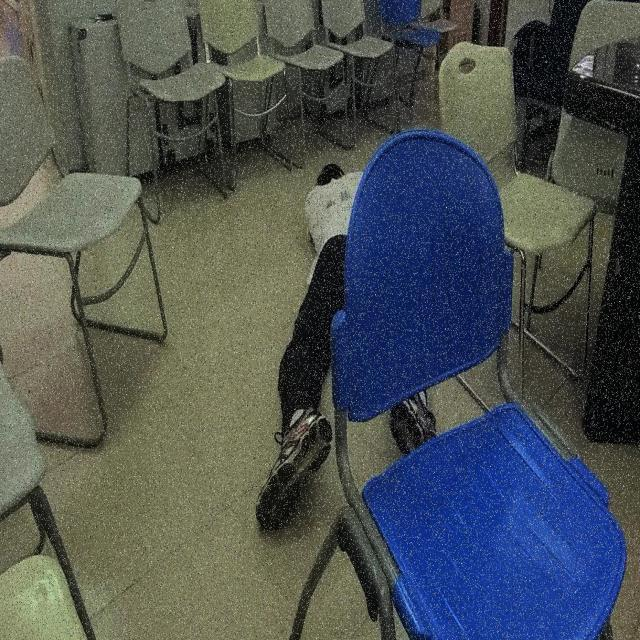fall: (252, 158, 442, 530)
